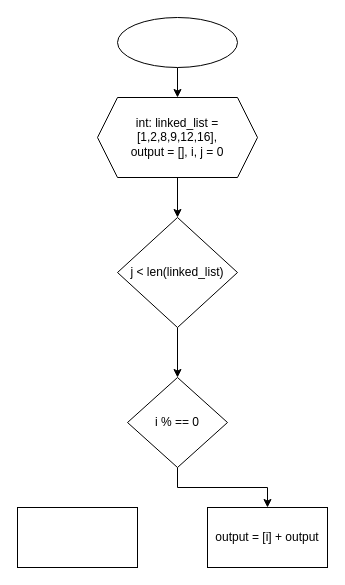
The diagram is 345 pixels wide and 585 high, and some of its shapes have lost their labels. Each missing label, with the centre of its shape:
output = output + [i]: [77,537]
Start: [177,42]
